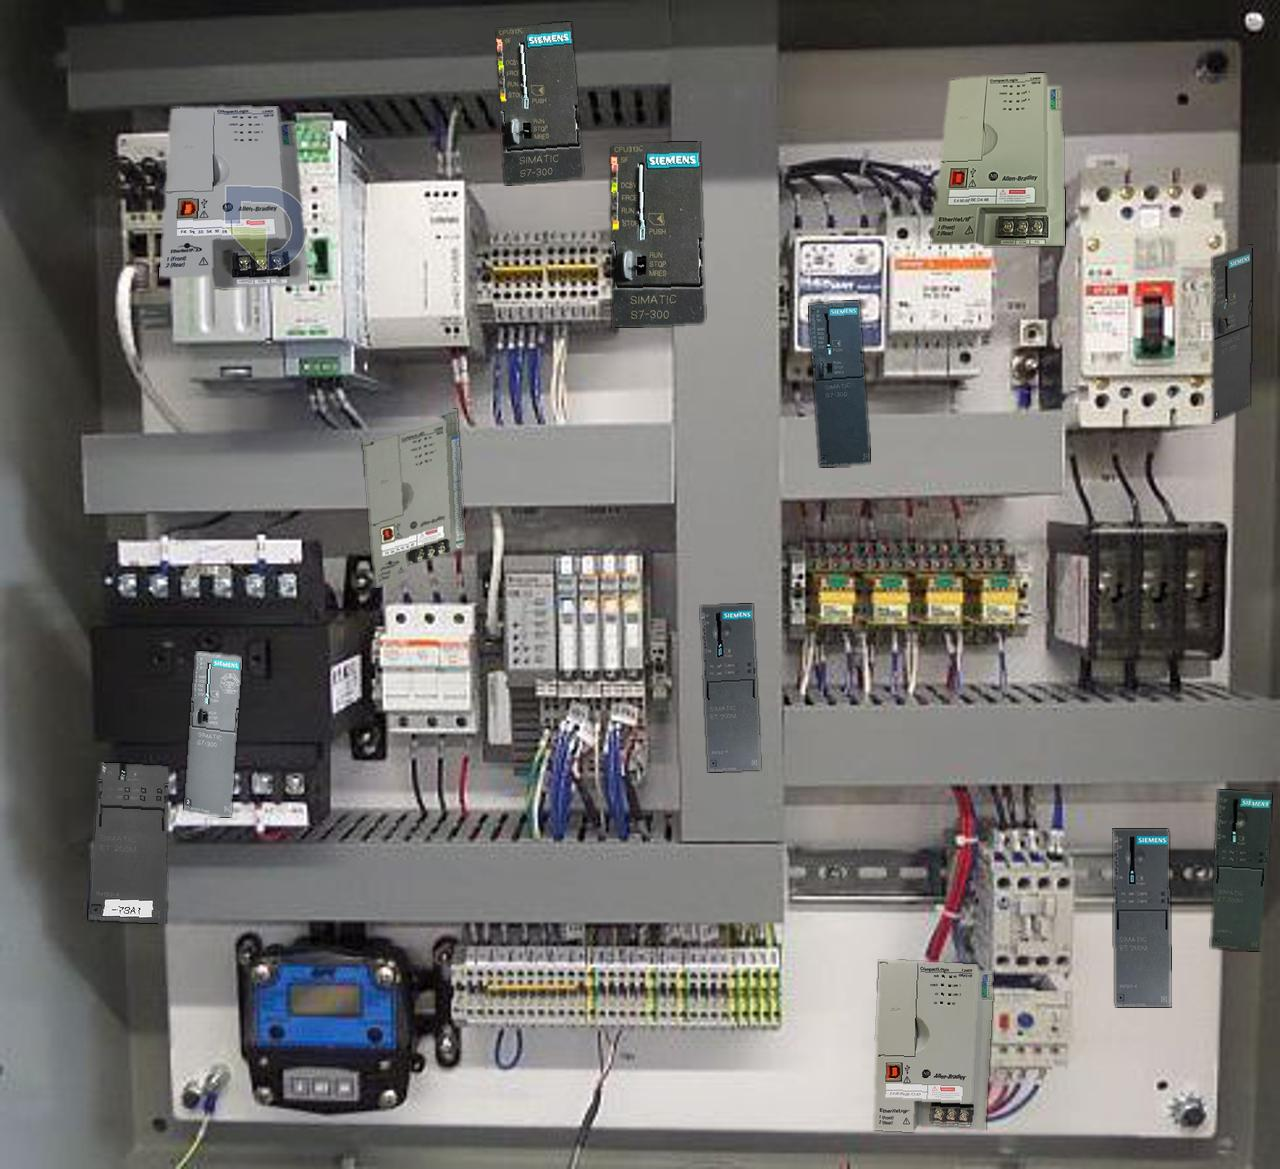AllenBradley: (159, 106, 307, 288), (931, 73, 1064, 247), (874, 962, 992, 1131), (363, 409, 464, 587)
Siemens: (609, 141, 704, 327), (495, 22, 582, 184), (808, 300, 870, 467), (184, 651, 241, 817), (1212, 245, 1252, 422)
